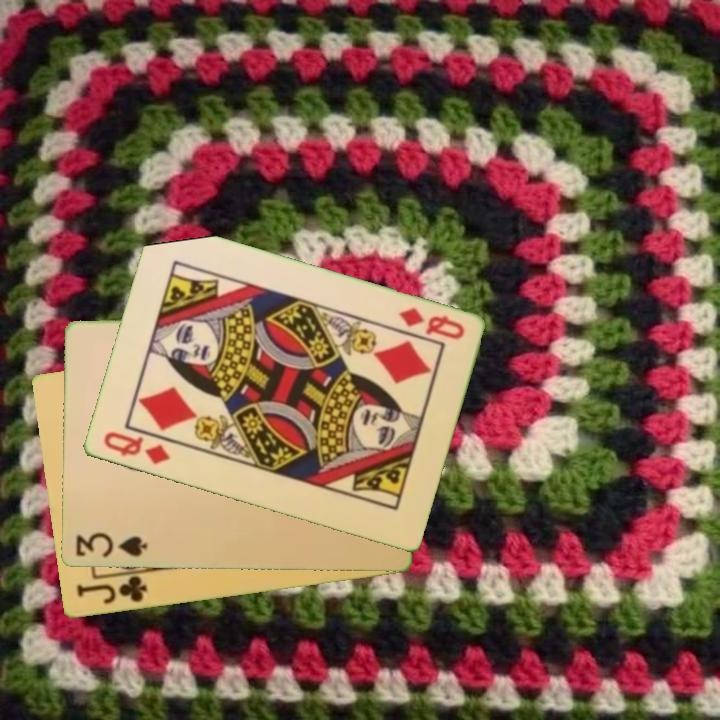3s: (72, 529, 150, 560)
Jc: (72, 572, 150, 608)
Qd: (99, 428, 173, 468), (394, 304, 467, 343)
